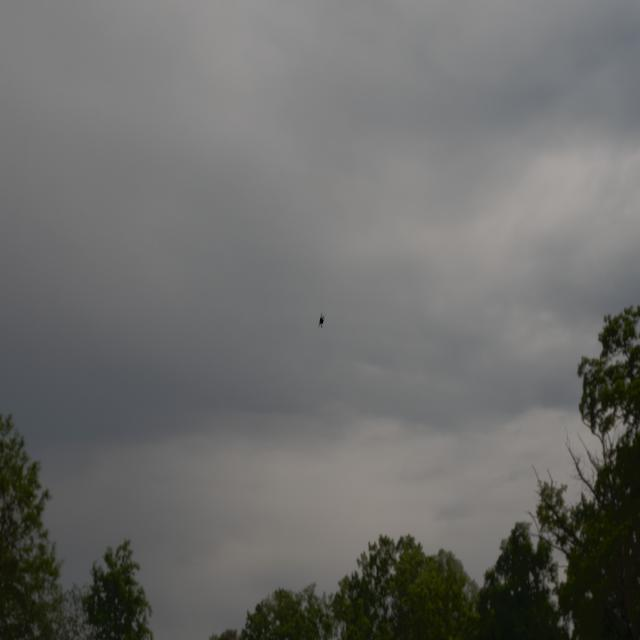drone: (316, 309, 328, 333)
